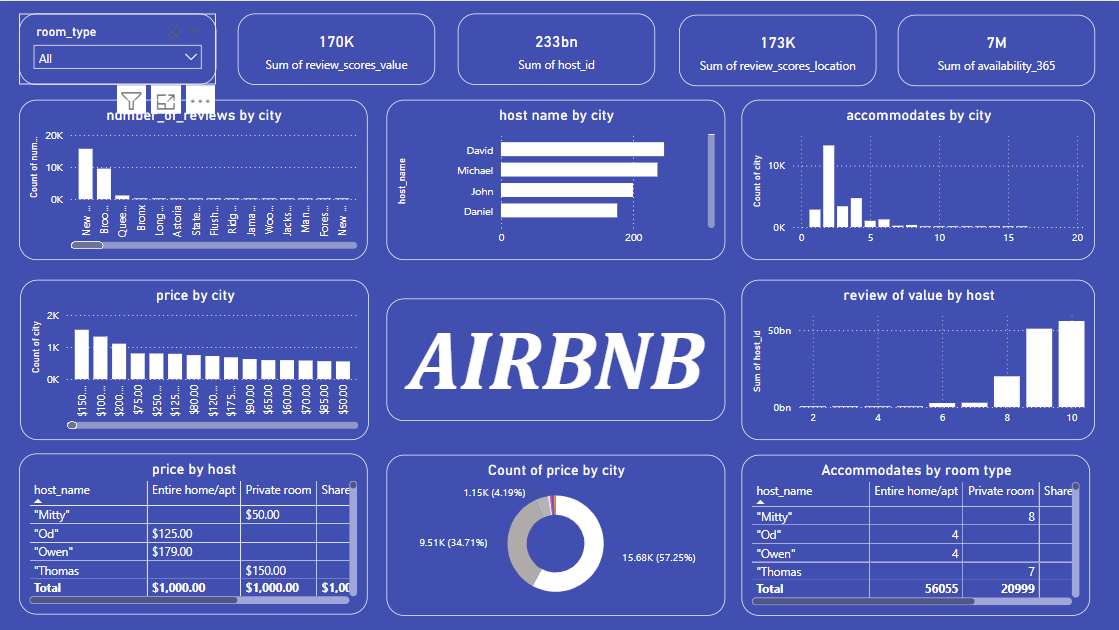

The dashboard page shown, as its layout file describes it:
{"tool":"powerbi","page":{"name":"Page 1","canvas":[1280,720],"ordinal":0},"visuals":[{"type":"slicer","fields":{"Values":["airbnb_listings.room_type"]},"box":[22.9,14.3,225.7,81.4],"z":0},{"type":"card","fields":{"Values":["Sum(airbnb_listings.review_scores_value)"]},"box":[272.9,14.3,225.7,81.4],"z":1000},{"type":"card","fields":{"Values":["Sum(airbnb_listings.availability_365)"]},"box":[1027.1,15.7,225.7,81.4],"z":2000},{"type":"card","fields":{"Values":["Sum(airbnb_listings.review_scores_location)"]},"box":[777.1,15.7,225.7,81.4],"z":3000},{"type":"card","fields":{"Values":["Sum(airbnb_listings.host_id)"]},"box":[525,14.3,225.7,81.4],"z":4000},{"type":"clusteredColumnChart","title":"number_of_reviews by city","fields":{"Y":["CountNonNull(airbnb_listings.number_of_reviews)"],"Category":["airbnb_listings.city"]},"box":[22.9,112.9,398.6,182.9],"z":5000},{"type":"clusteredColumnChart","title":"accommodates by city","fields":{"Category":["airbnb_listings.accommodates"],"Y":["CountNonNull(airbnb_listings.city)"]},"box":[848.6,112.9,404.3,182.9],"z":5001},{"type":"clusteredBarChart","title":"host name by city","fields":{"Category":["airbnb_listings.host_name"],"Y":["CountNonNull(airbnb_listings.city)"]},"box":[442.9,112.9,387.1,182.9],"z":5002},{"type":"clusteredColumnChart","title":" review of value by host","fields":{"Y":["Sum(airbnb_listings.host_id)"],"Category":["airbnb_listings.review_scores_value"]},"box":[848.6,318.6,404.3,182.9],"z":5003},{"type":"clusteredColumnChart","title":"price by city","fields":{"Y":["CountNonNull(airbnb_listings.city)"],"Category":["airbnb_listings.price"]},"box":[24.3,318.6,398.6,182.9],"z":5004},{"type":"donutChart","fields":{"Category":["airbnb_listings.city"],"Y":["CountNonNull(airbnb_listings.price)"]},"box":[442.9,518.6,387.1,184.3],"z":5005},{"type":"pivotTable","title":"price by host","fields":{"Rows":["airbnb_listings.host_name"],"Columns":["airbnb_listings.room_type"],"Values":["Min(airbnb_listings.price)"]},"box":[22.9,517.1,398.6,184.3],"z":5006},{"type":"pivotTable","title":"Accommodates by room type","fields":{"Rows":["airbnb_listings.host_name"],"Columns":["airbnb_listings.room_type"],"Values":["Sum(airbnb_listings.accommodates)"]},"box":[848.6,518.6,398.6,184.3],"z":5007},{"type":"textbox","box":[442.9,340,387.1,140],"z":5008}]}

Visuals, with their boxes in screenshot pixels (x1, y1, x2, y2), scaled from the page's 1280x720 canvas onto the 1119x630 screenshot:
slicer - airbnb_listings.room_type: (left=20, top=13, right=217, bottom=84)
card - Sum(airbnb_listings.review_scores_value): (left=239, top=13, right=436, bottom=84)
card - Sum(airbnb_listings.availability_365): (left=898, top=14, right=1095, bottom=85)
card - Sum(airbnb_listings.review_scores_location): (left=679, top=14, right=877, bottom=85)
card - Sum(airbnb_listings.host_id): (left=459, top=13, right=656, bottom=84)
"number_of_reviews by city" clusteredColumnChart: (left=20, top=99, right=368, bottom=259)
"accommodates by city" clusteredColumnChart: (left=742, top=99, right=1095, bottom=259)
"host name by city" clusteredBarChart: (left=387, top=99, right=726, bottom=259)
" review of value by host" clusteredColumnChart: (left=742, top=279, right=1095, bottom=439)
"price by city" clusteredColumnChart: (left=21, top=279, right=370, bottom=439)
donutChart - airbnb_listings.city x CountNonNull(airbnb_listings.price): (left=387, top=454, right=726, bottom=615)
"price by host" pivotTable: (left=20, top=452, right=368, bottom=614)
"Accommodates by room type" pivotTable: (left=742, top=454, right=1090, bottom=615)
textbox: (left=387, top=298, right=726, bottom=420)
